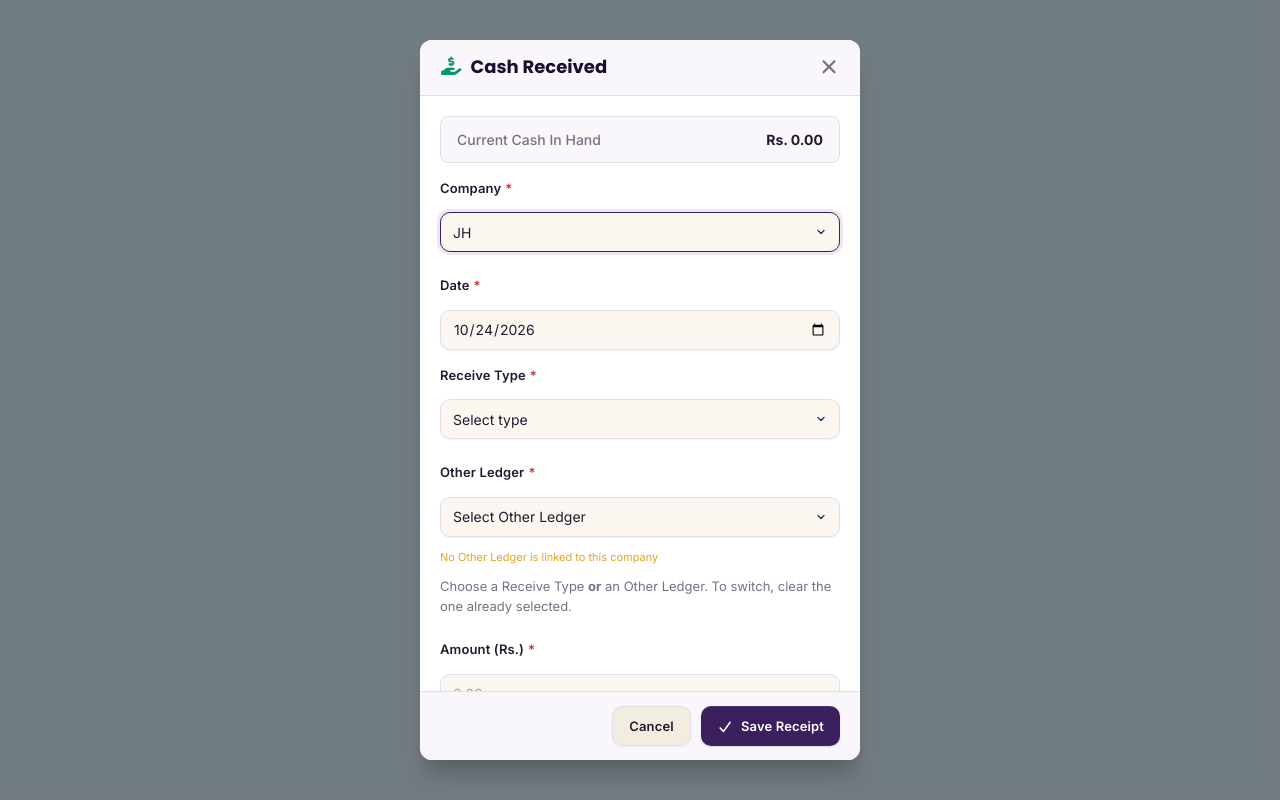
Test: the amount is marked when it is the invalid field
The width and height of the screenshot is (1280, 800).
Check: the 1st dropdown named "company_id" shows "JH", box [440,212,840,252]
Click the button "Save Receipt" at (770, 726), box [701,706,840,746]
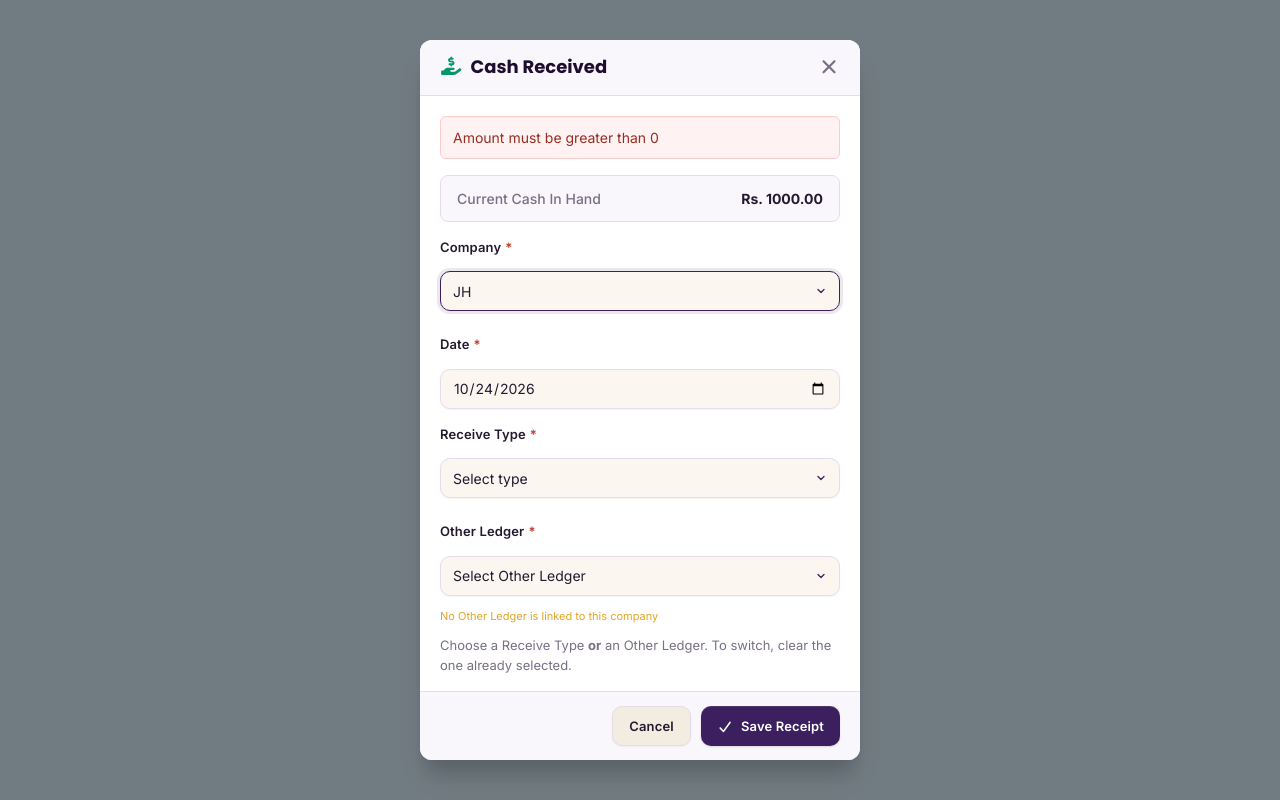
Check: the message reads "Amount must be greater than 0", box [453,128,659,146]
